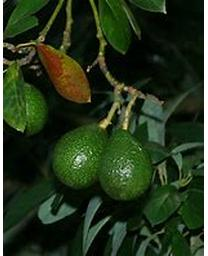avocado: (48, 121, 108, 190), (100, 128, 154, 204)
